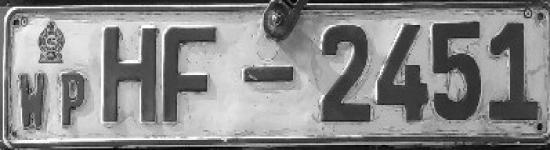-: (237, 58, 305, 92)
1: (489, 19, 540, 122)
2: (315, 17, 374, 130)
4: (374, 16, 431, 128)
5: (433, 15, 486, 126)
F: (163, 20, 226, 130)
H: (96, 21, 162, 132)
P: (59, 66, 94, 134)
W: (13, 67, 51, 136)
